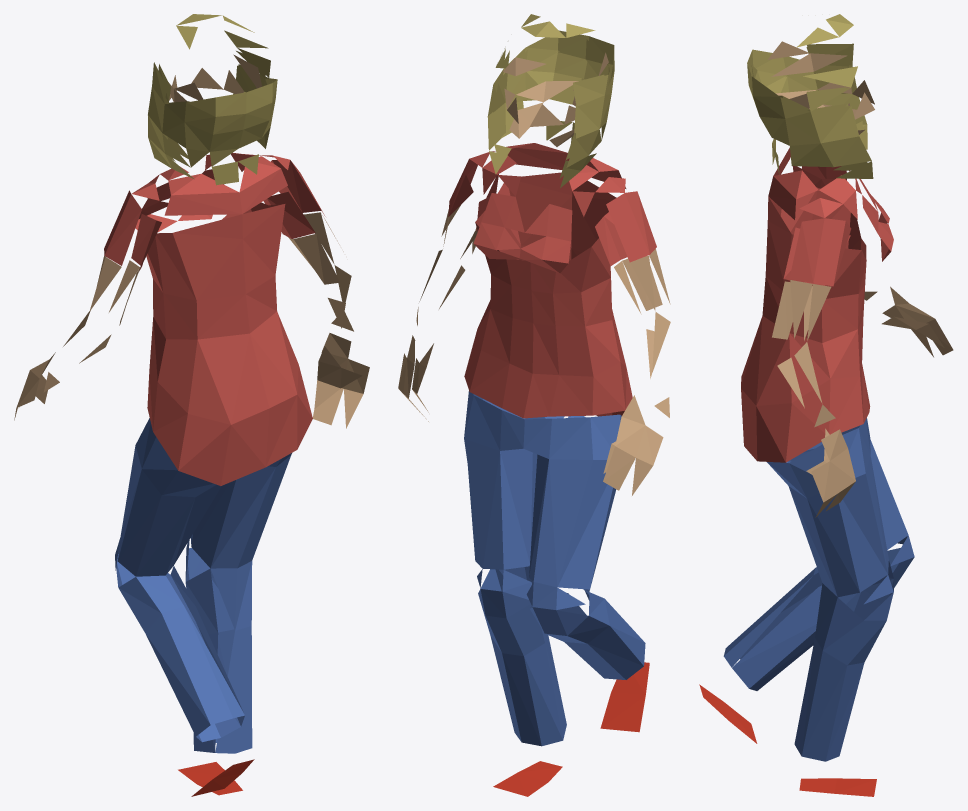
The model's file is personfar_6_w0.fbx.
3 views of the same model, side by side, from view 1: azimuth 30°, elevation 25°; view 2: azimuth 150°, elevation 25°; view 3: azimuth 270°, elevation 25° (orthographic).
Visible parts, largest first — view 1: Woman; view 2: Woman; view 3: Woman.
Boxes of the visible parts, bbox=[...] form: Woman: bbox=[14, 14, 369, 796]; Woman: bbox=[398, 14, 670, 796]; Woman: bbox=[699, 14, 953, 796].
Bounding box in the file's own units: 0.4132 × 1 × 0.3028.
